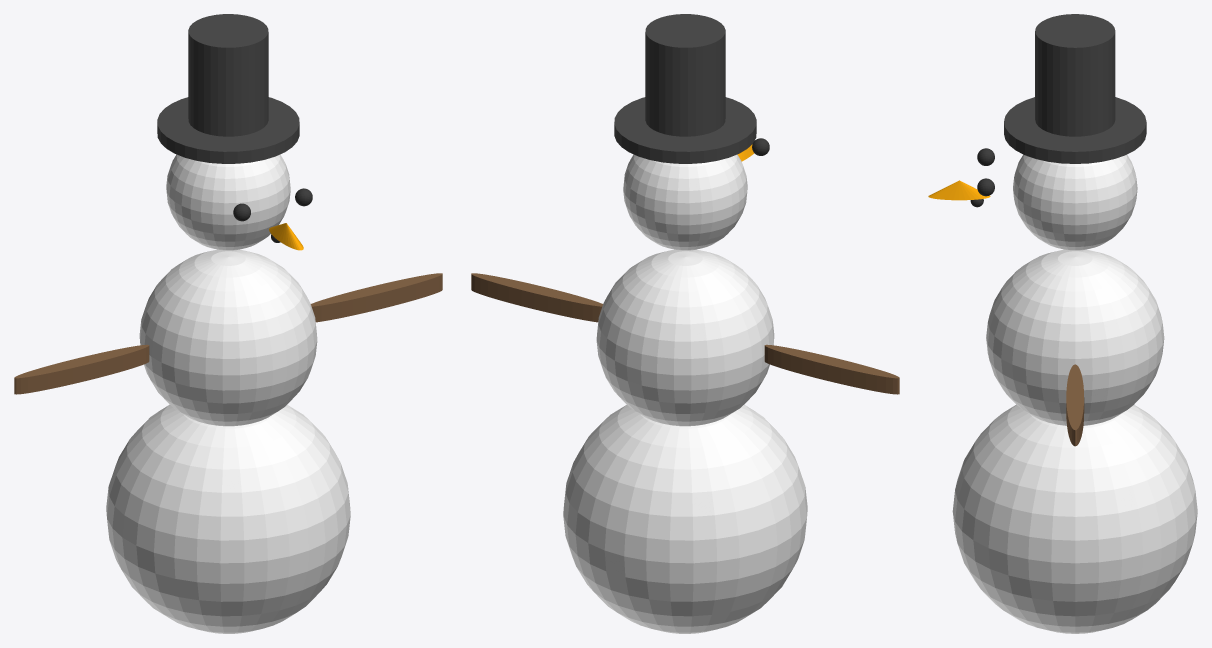
3 views of the same model, side by side, from view 1: azimuth 30°, elevation 25°; view 2: azimuth 150°, elevation 25°; view 3: azimuth 270°, elevation 25° (orthographic).
Visible parts, largest first — view 1: Sphere; view 2: Sphere; view 3: Sphere.
Boxes of the visible parts, box(x1,y1,x2,y2) form: Sphere: box(14, 14, 442, 633); Sphere: box(471, 14, 899, 633); Sphere: box(928, 14, 1197, 633).
Bounding box in the file's own units: 0.333 × 0.4395 × 0.1815.
